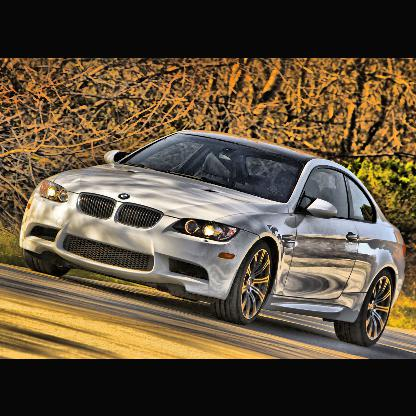BMW M3 Coupe 2012: (20, 130, 407, 350)
